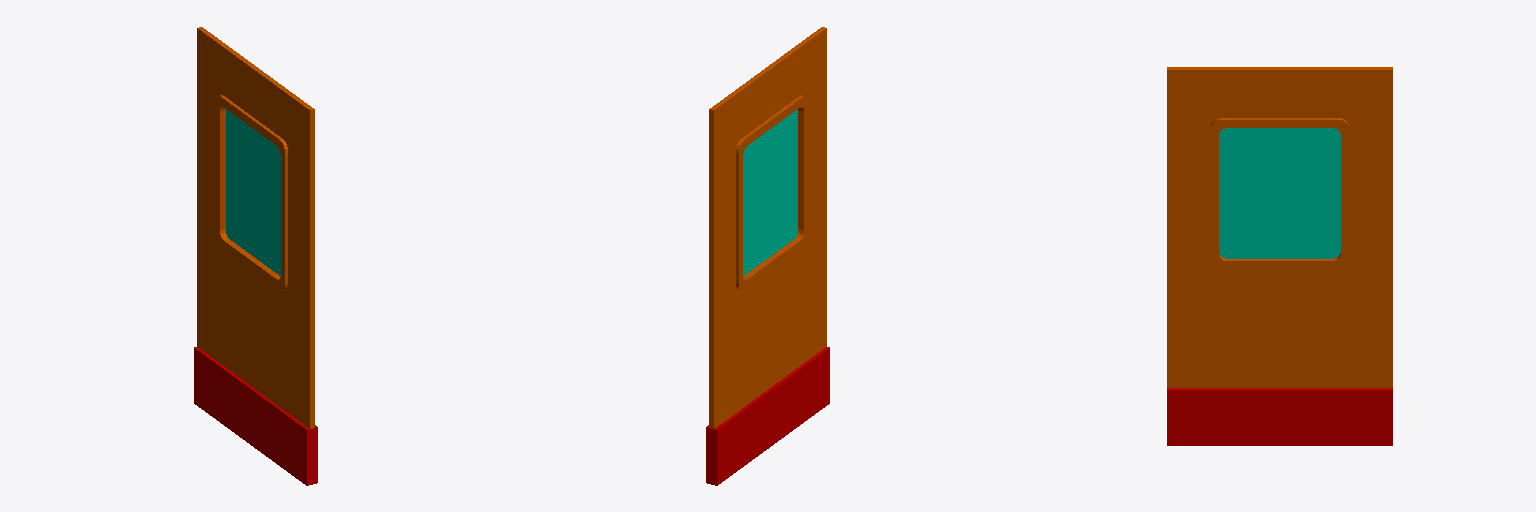
File: PuertaLab.obj
3 views of the same model, side by side, from view 1: azimuth 30°, elevation 25°; view 2: azimuth 150°, elevation 25°; view 3: azimuth 270°, elevation 25° (orthographic).
Visible parts, largest first — view 1: Cubo; view 2: Cubo; view 3: Cubo.
Boxes of the visible parts, <box> form: Cubo: <box>194,27,317,485</box>; Cubo: <box>706,27,829,485</box>; Cubo: <box>1167,67,1392,445</box>.
Size of the model in its own units: 0.07 by 2.2 by 1.2.